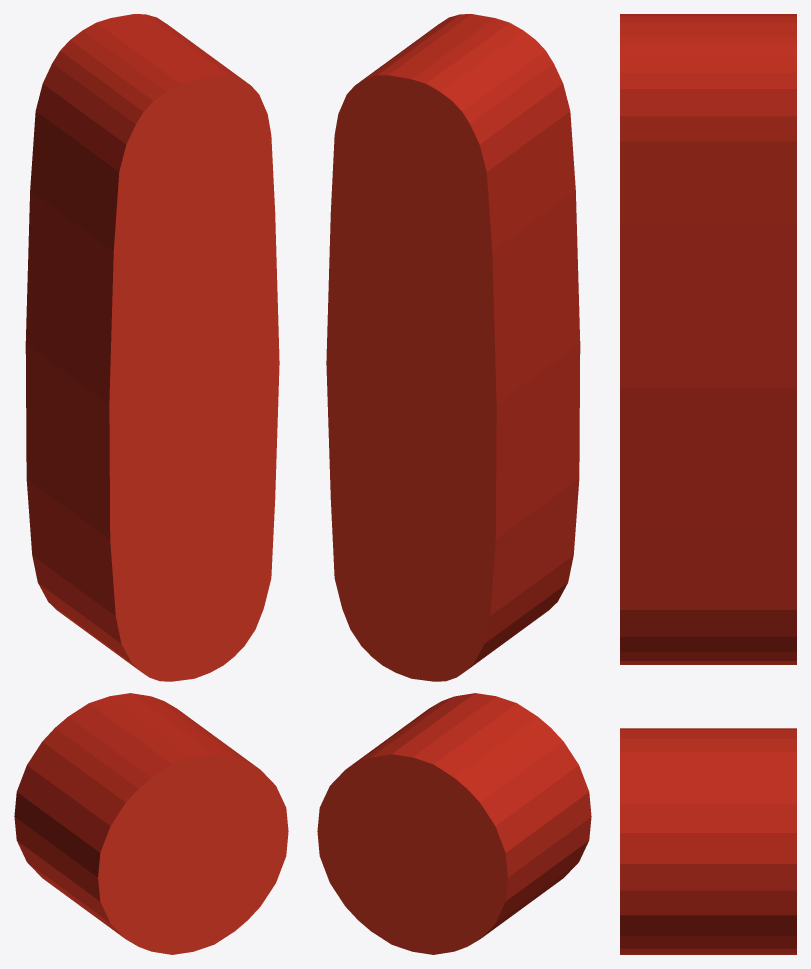
Rendered from exclamation mark.FBX.
3 views of the same model, side by side, from view 1: azimuth 30°, elevation 25°; view 2: azimuth 150°, elevation 25°; view 3: azimuth 270°, elevation 25° (orthographic). The views are drawn at different scales.
Visible parts, largest first — view 1: exclamation mark; view 2: exclamation mark; view 3: exclamation mark.
Boxes of the visible parts, x1,y1,x2,y2 form: exclamation mark: (14,14,288,954); exclamation mark: (317,14,591,954); exclamation mark: (620,14,796,954).
Bounding box in the file's own units: 8.9 × 38.95 × 6.77.
